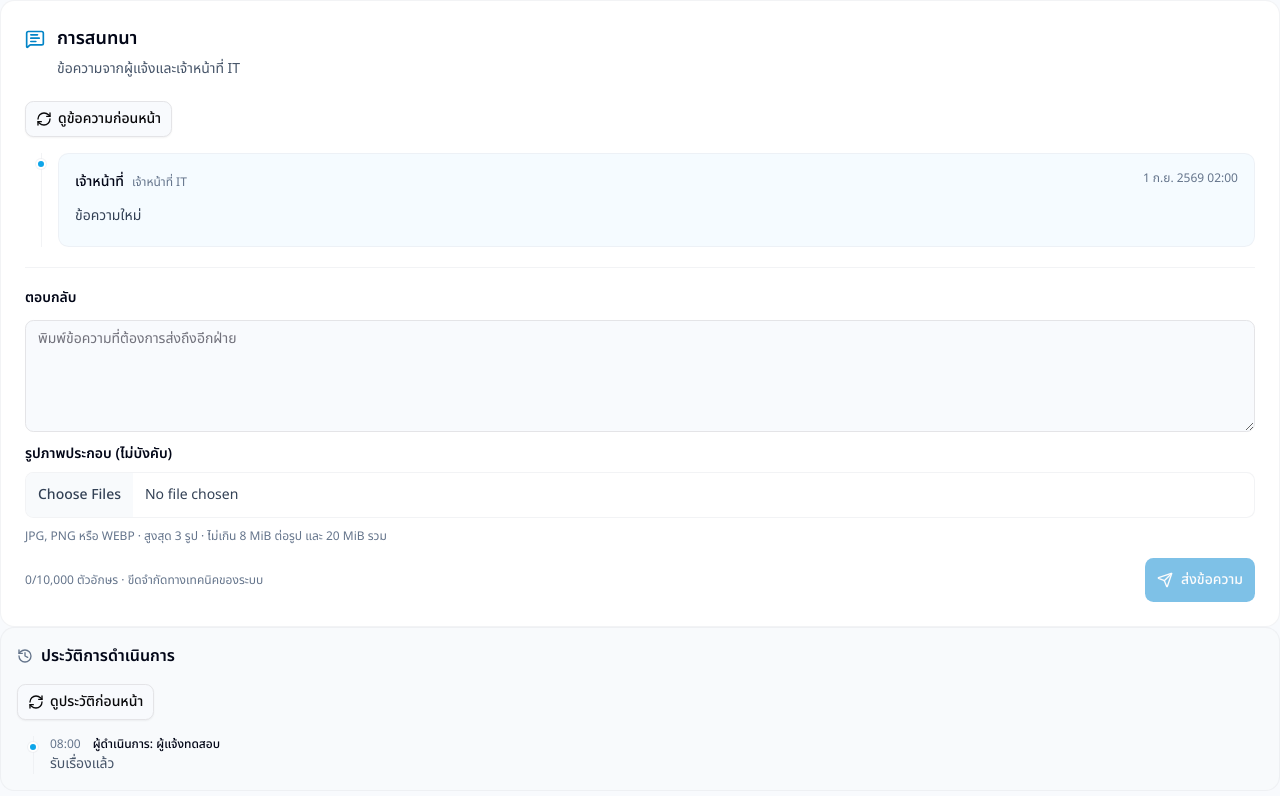
it: IT Ticket Activity › loads and paginates Activity independently from the comment conversation
This screenshot has width=1280, height=796.
Expected: the text "ข้อความใหม่" is shown, [75,205,141,226]
Step 1. Click the button "ดูประวัติก่อนหน้า" → [86, 702], box [17,684,154,720]
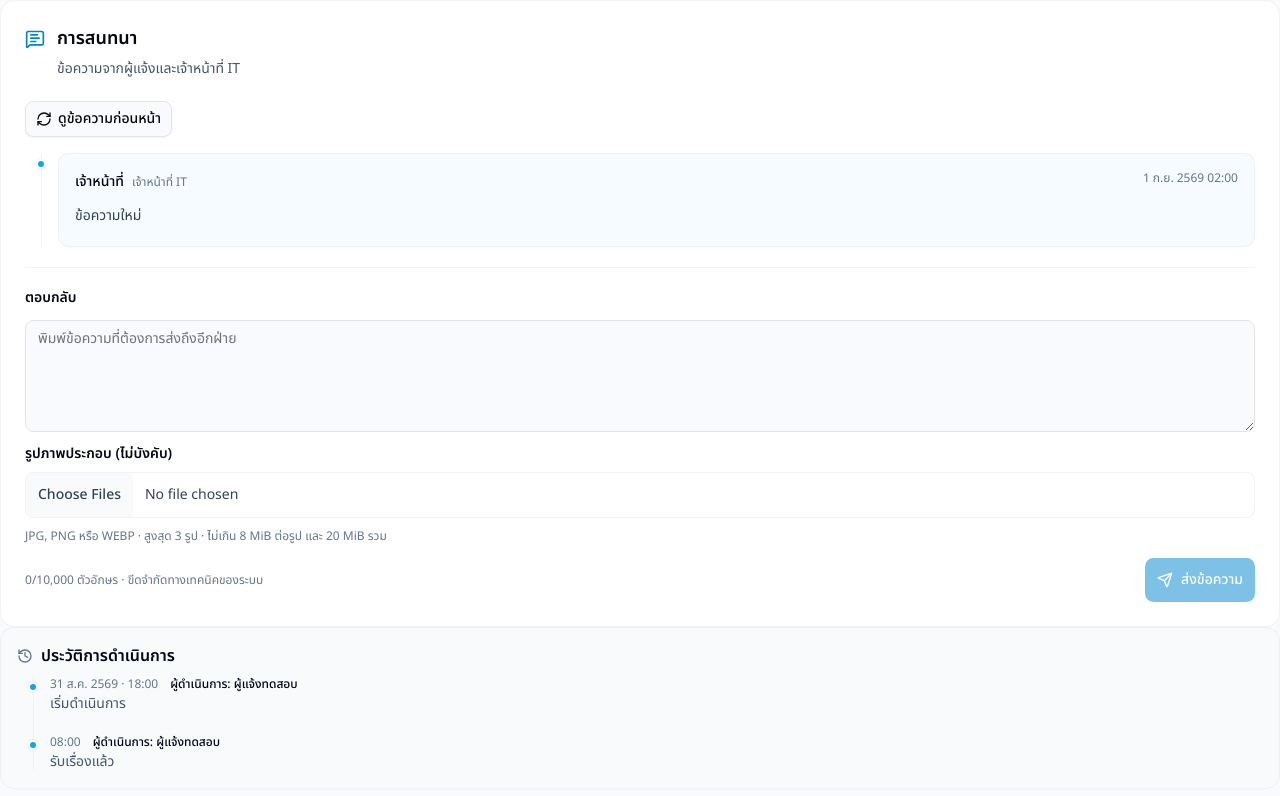
Expected: the text "ข้อความเก่า" is not shown
Step 2. Click the button "ดูข้อความก่อนหน้า" → [99, 119], box [25,101,172,137]
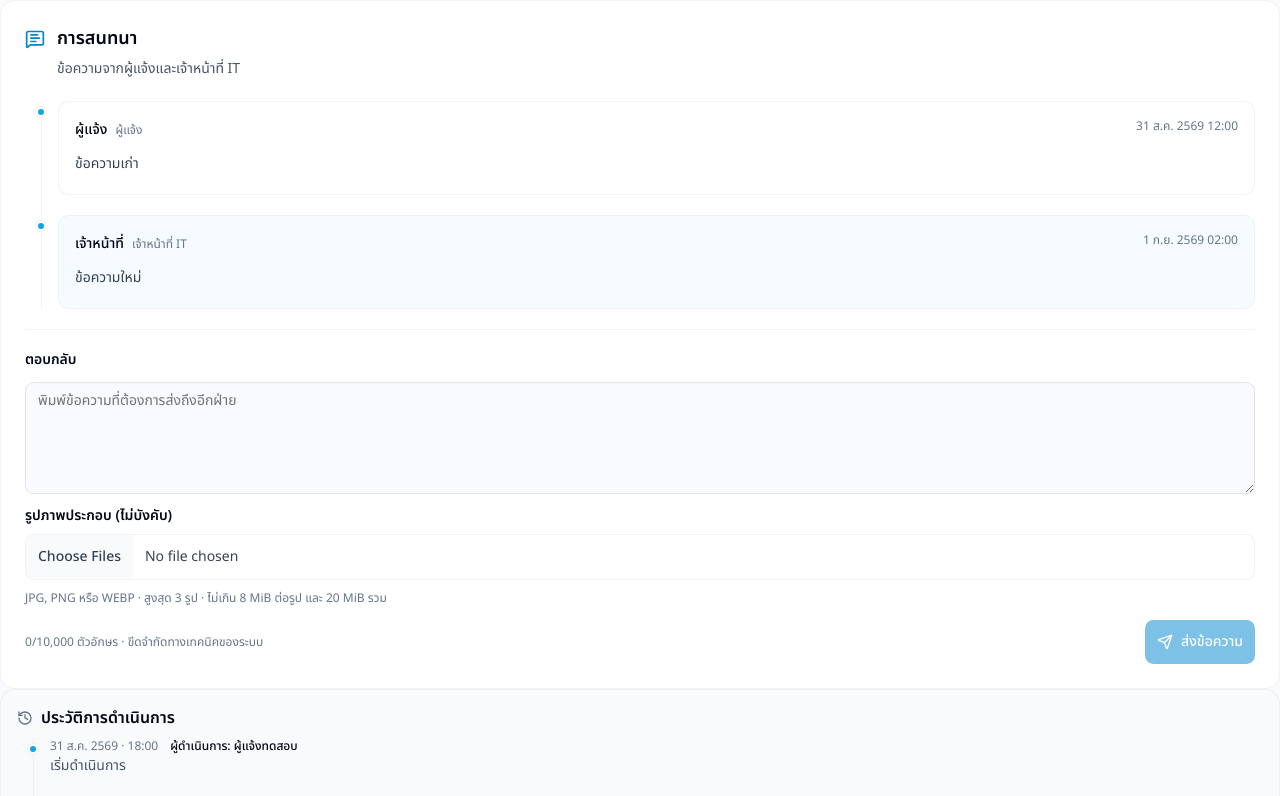
Expected: the text "ข้อความเก่า" is shown, [75,153,139,174]
